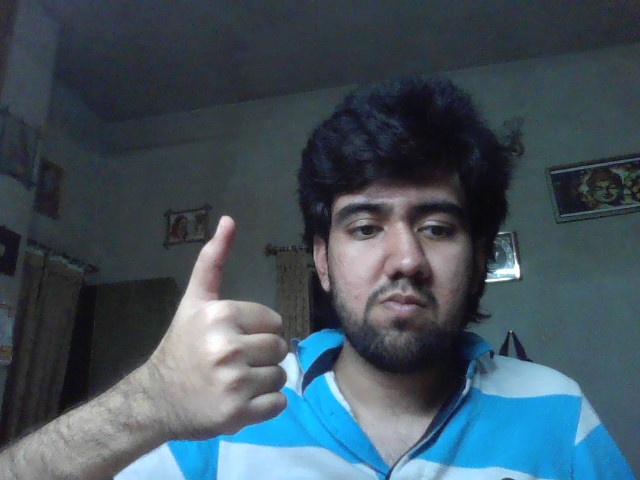Ok: (161, 215, 287, 440)
